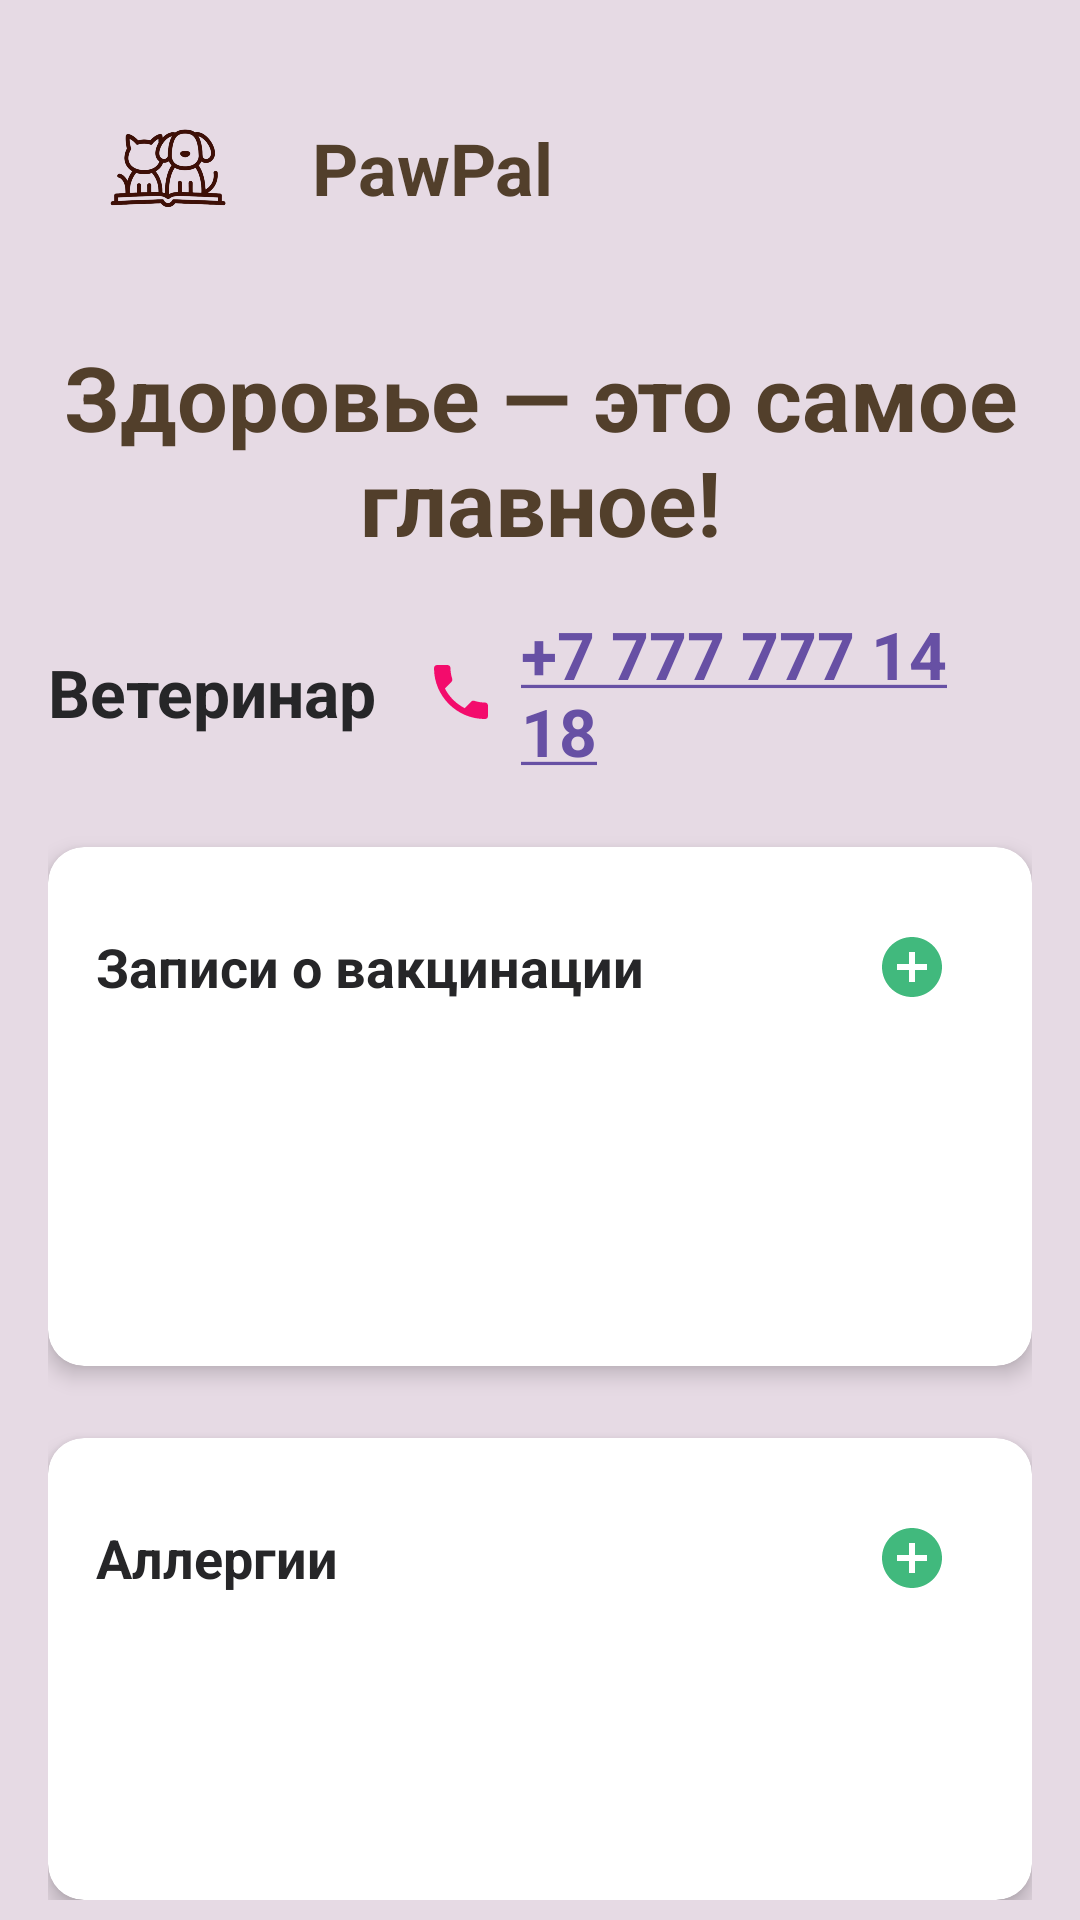

Locate icon controls on the screen. Image size 1080*1920, boxes as box=[x1, y1, x2, y2].
Добавить аллергию: box=[882, 1528, 942, 1588]
Добавить вакцинацию: box=[882, 937, 942, 997]
